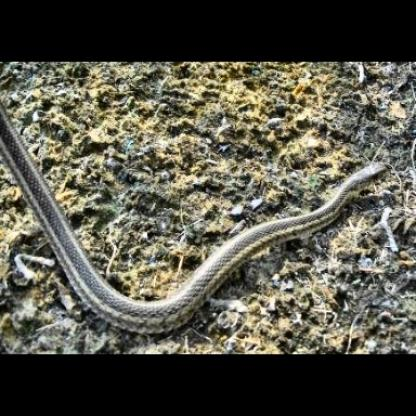Snake: (0, 98, 393, 332)
